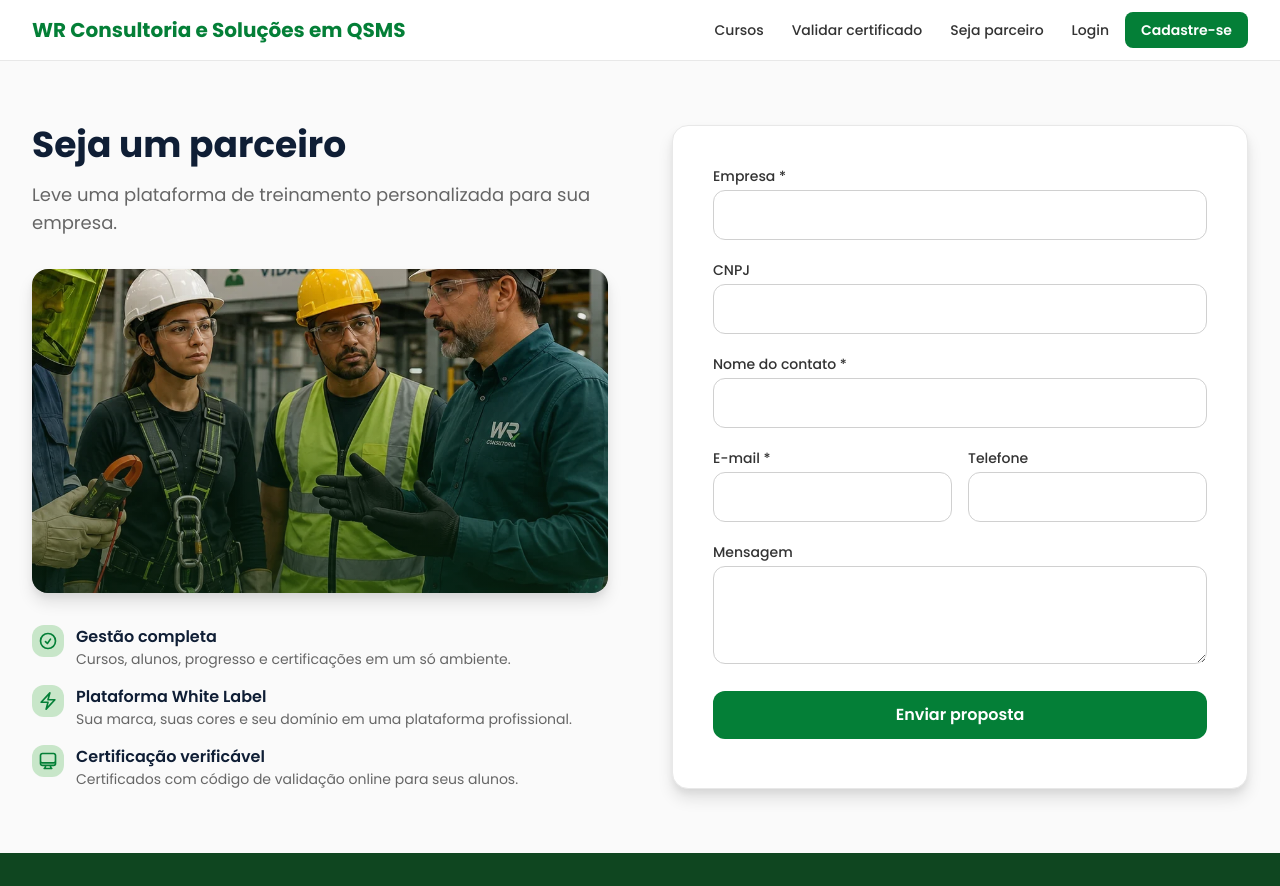
Test: Partner › shows success state after valid submission
Type "TestCo" into the field with test id "partner-company-input" at (960, 215), box [713, 190, 1207, 240]
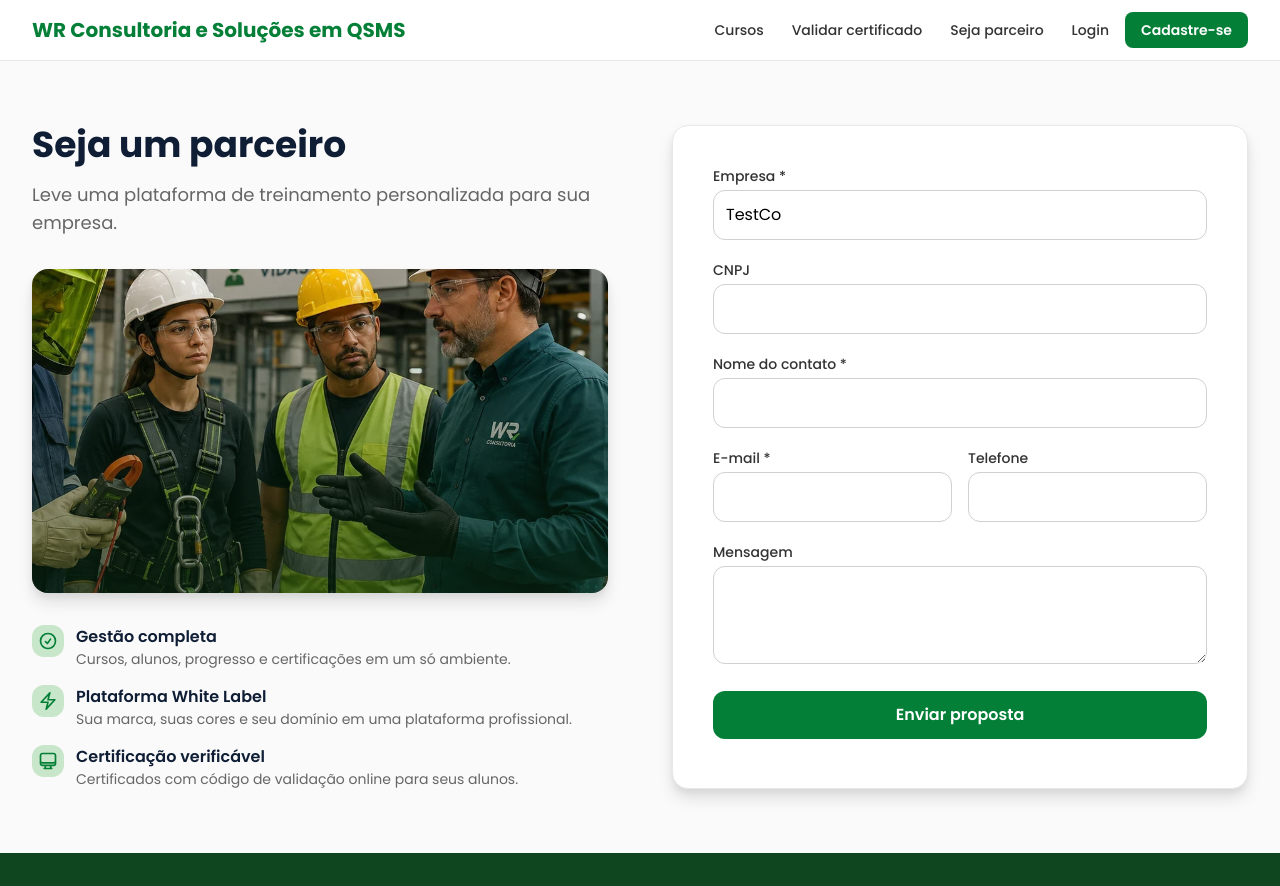
Type "John" into the field with test id "partner-contact-name-input" at (960, 403), box [713, 378, 1207, 428]
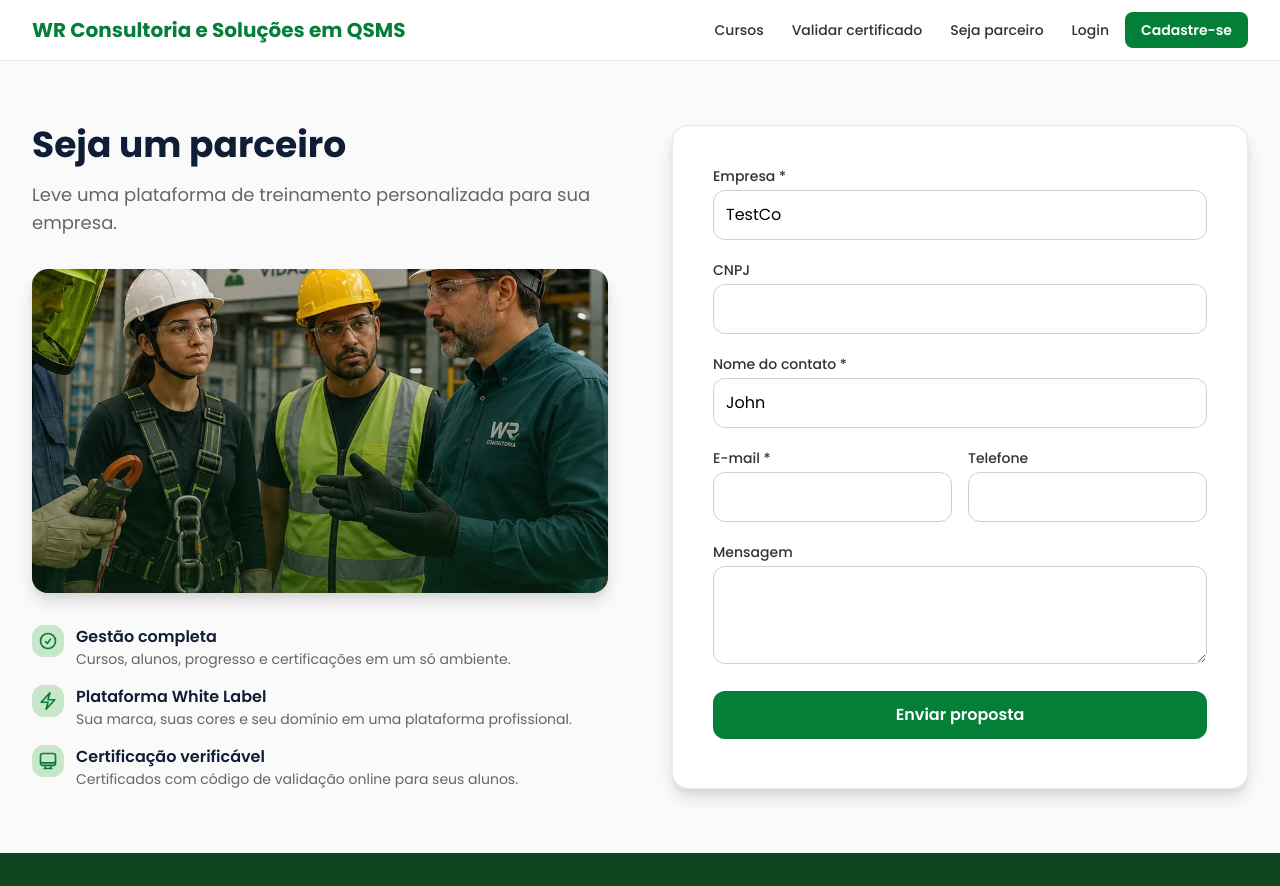
Type "john@test.co" into the field with test id "partner-email-input" at (832, 497), box [713, 472, 952, 522]
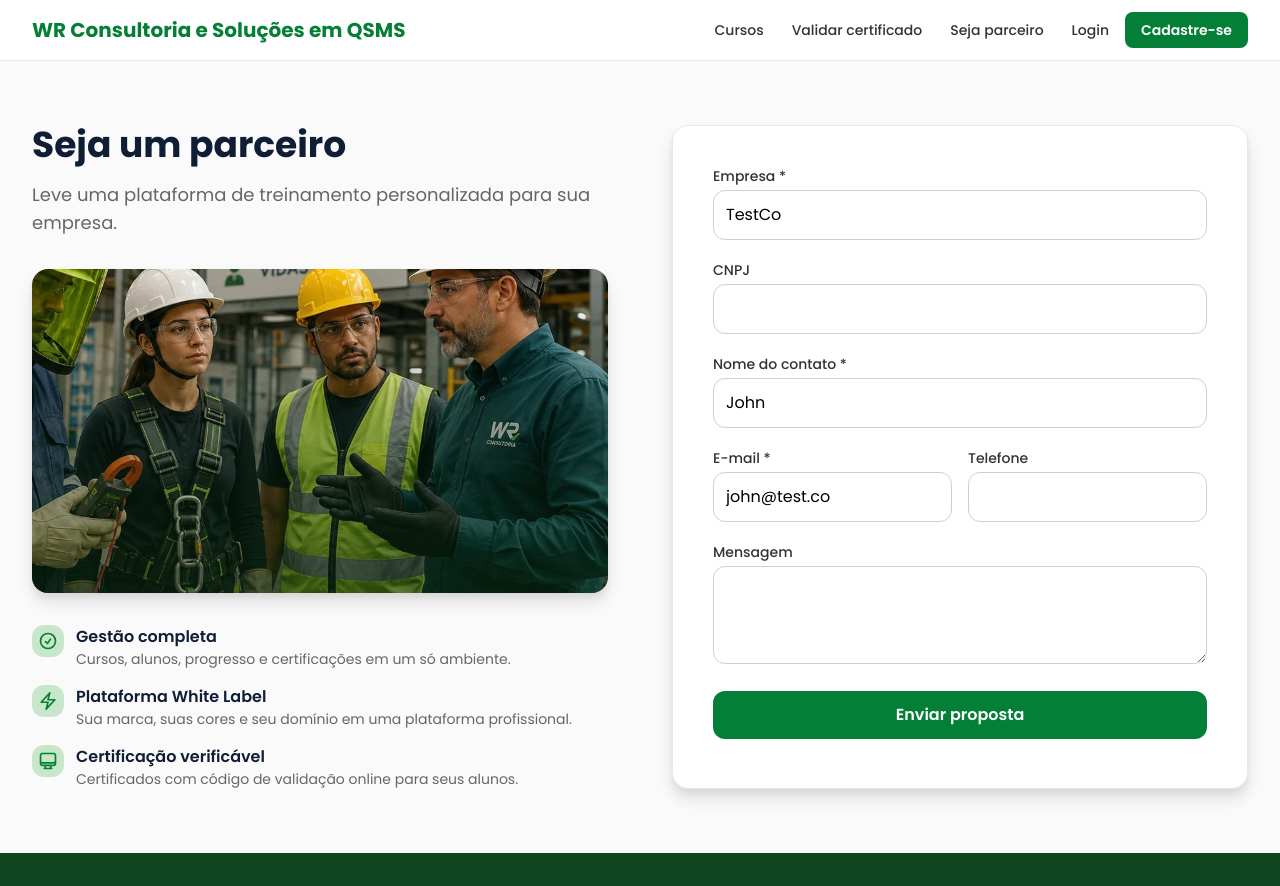
Submit the form, box [713, 166, 1207, 739]
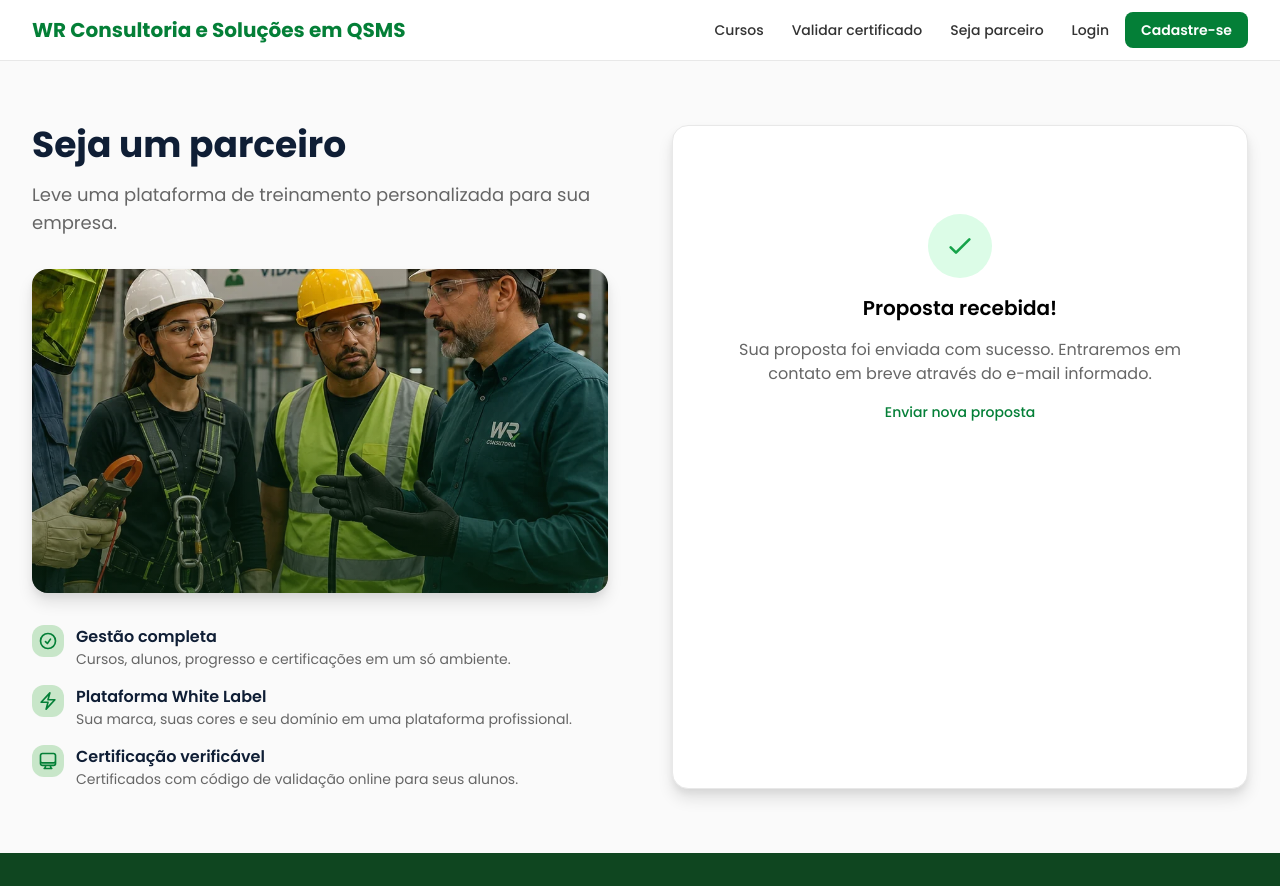
Check: the element with test id "partner-success" is shown, box [713, 166, 1207, 472]
Check: the text "Proposta recebida" is shown, box [863, 294, 1057, 322]
